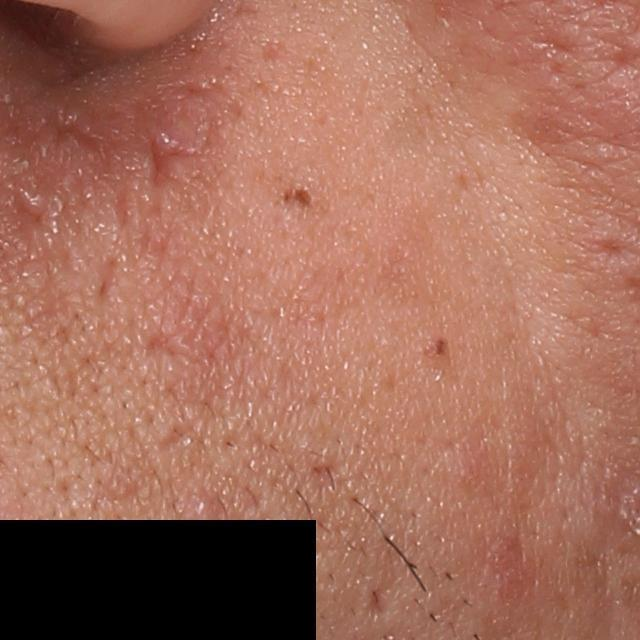atrophic_scar: (41, 101, 169, 179), (147, 129, 206, 190), (144, 330, 189, 385), (11, 185, 52, 244), (96, 248, 127, 309), (581, 233, 637, 263), (362, 582, 399, 622)
nevus: (283, 185, 313, 209), (425, 338, 452, 364)
